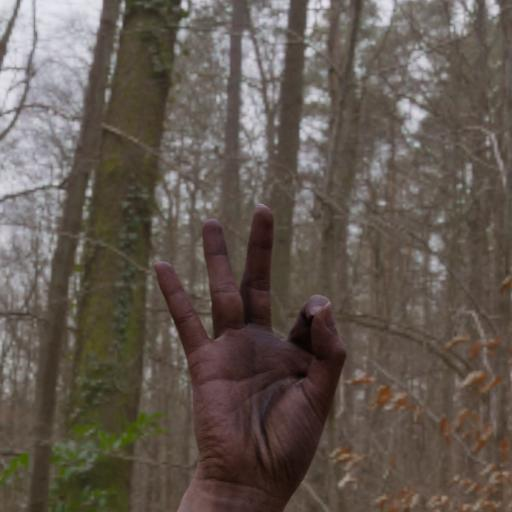F: (133, 175, 383, 465)
